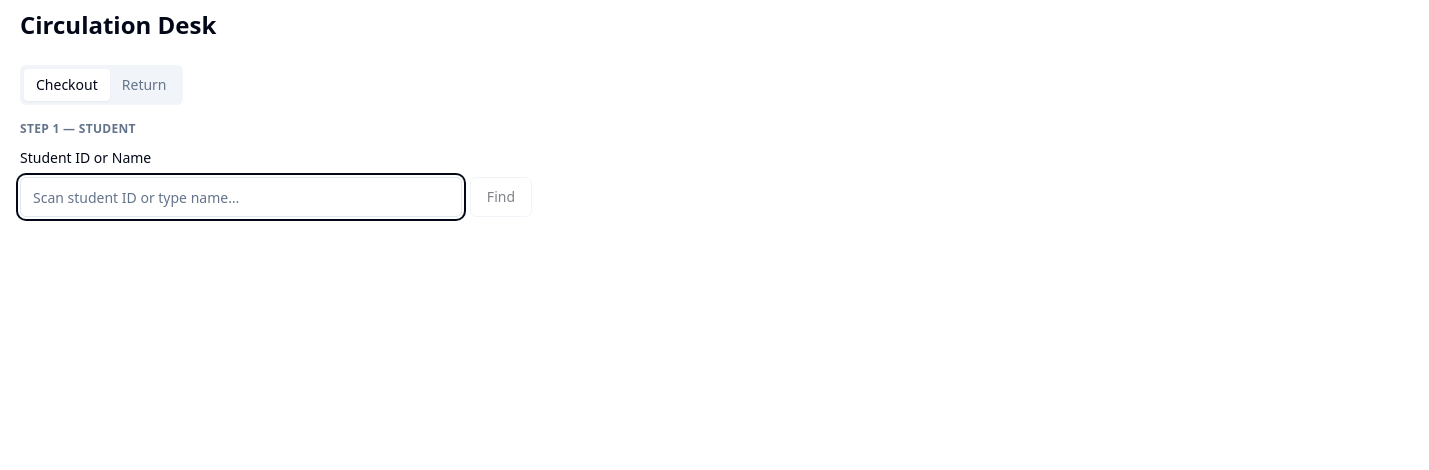
Test case: ReturnTab › posts return and shows success message
Click the tab "Return".
click(144, 85)  # box [110, 69, 179, 101]
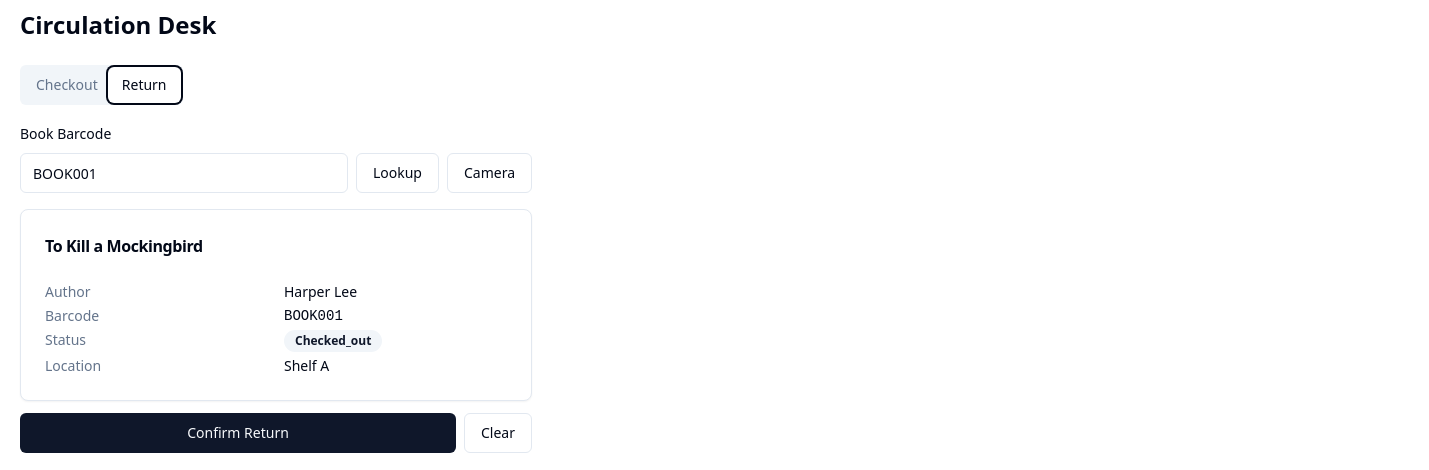
Expected: the button "Confirm Return" is shown
Click the button "Confirm Return".
click(238, 433)  # box [20, 413, 456, 453]
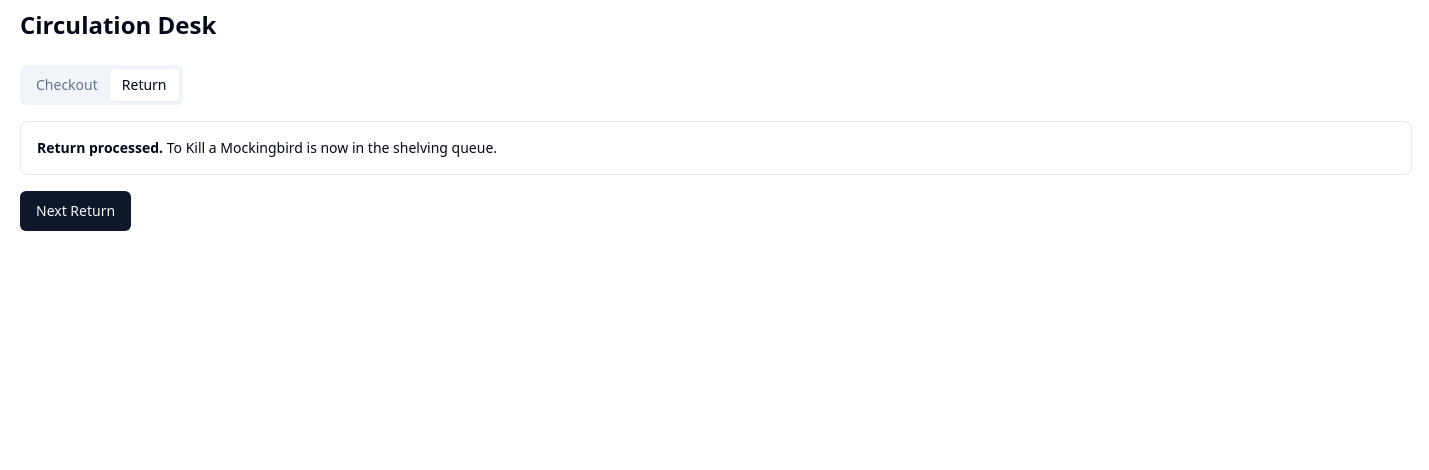
Expected: the text "Return processed." is shown, [37, 138, 163, 157]
